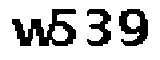3: (84, 7, 112, 48)
5: (51, 7, 81, 49)
9: (116, 5, 150, 47)
w: (10, 16, 55, 50)
